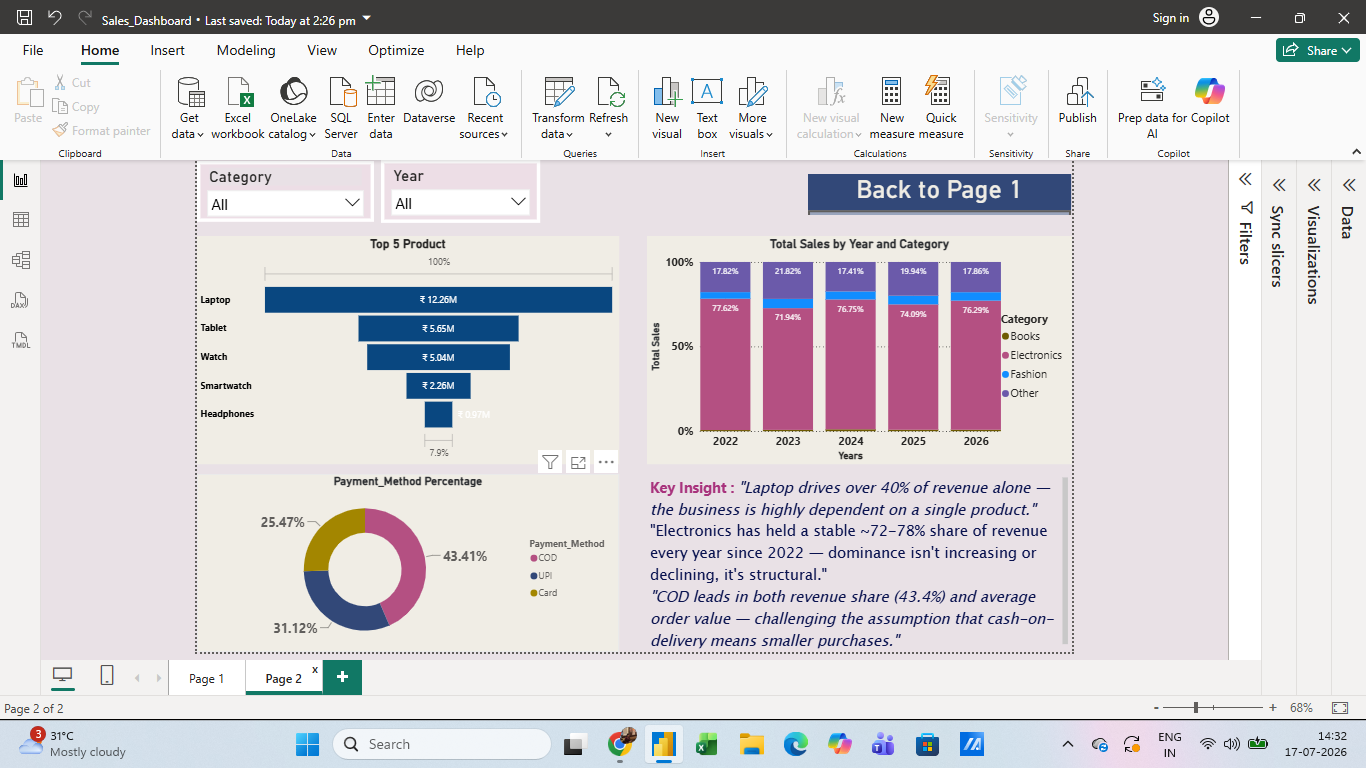

What the dashboard file says about the page in this screenshot:
{"tool":"powerbi","page":{"name":"Page 2","canvas":[1280,720],"ordinal":1},"visuals":[{"type":"funnel","title":"Top 5 Product","fields":{"Category":["sales_dataset_dashboard.Product_Name"],"Y":["Sum(sales_dataset_dashboard.Total_Sales)"]},"box":[0,111.2,617.6,333.7],"z":3000},{"type":"donutChart","title":"Payment_Method Percentage","fields":{"Category":["sales_dataset_dashboard.Payment_Method"],"Y":["Sum(sales_dataset_dashboard.Total_Sales)"]},"box":[0,459.5,617.6,260.5],"z":4000},{"type":"slicer","fields":{"Values":["sales_dataset_dashboard.Category"]},"box":[0,1.5,259,89.3],"z":4001},{"type":"slicer","fields":{"Values":["sales_dataset_dashboard.Year"]},"box":[269.3,0,232.7,92.2],"z":4002},{"type":"hundredPercentStackedColumnChart","title":" Total Sales by Year and Category","fields":{"Category":["sales_dataset_dashboard.Year"],"Y":["Sum(sales_dataset_dashboard.Total_Sales)"],"Series":["sales_dataset_dashboard.Category"]},"box":[658.5,111.2,622,333.7],"z":4003},{"type":"actionButton","title":"Back to Page 1","box":[894.1,20.5,384.9,60],"z":4005},{"type":"textbox","box":[659,460,621,260],"z":4006}]}

Visuals, with their boxes on the page's 1280x720 design canvas (x1, y1, x2, y2). These are canvas units, not pixel positions in the 1366x768 screenshot, which may show the page scaled, cropped or inside an application window:
"Top 5 Product" funnel: 0 111 618 445
"Payment_Method Percentage" donutChart: 0 460 618 720
slicer - sales_dataset_dashboard.Category: 0 2 259 91
slicer - sales_dataset_dashboard.Year: 269 0 502 92
" Total Sales by Year and Category" hundredPercentStackedColumnChart: 658 111 1280 445
"Back to Page 1" actionButton: 894 20 1279 80
textbox: 659 460 1280 720
